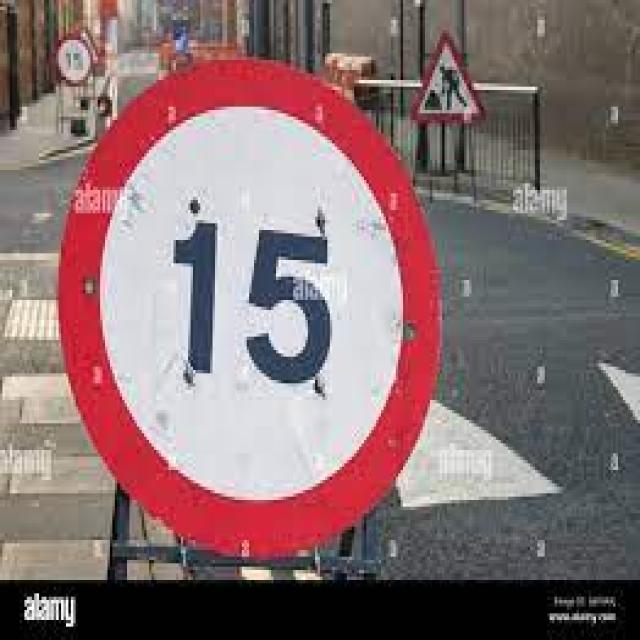SPEED_LIMIT_15: (49, 51, 452, 564)
